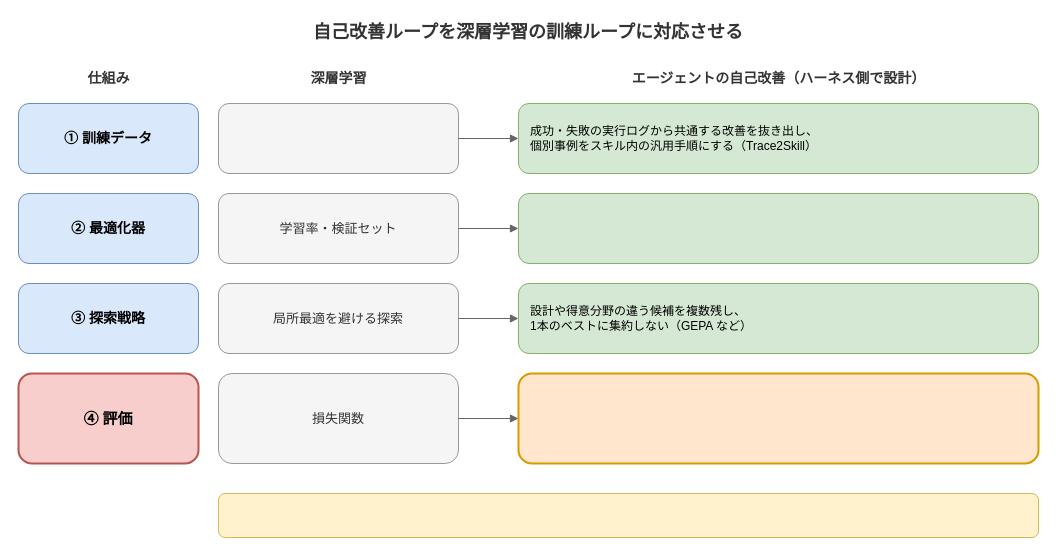
Some shapes in this 1056 by 555 pixel diagram are drawn without their labels. The box of each missing label's shape, as (x1, y1, x2, y2) in pixels:
1回の編集量を制限し、検証用タスクで改善を 確かめてから採用する（SkillOpt）: (518, 192, 1038, 264)
学習データセット: (218, 102, 458, 174)
改善の向きを決める。評価が不正確だと反復するほど性能が落ちる。 「良い出力」の基準（正確性・網羅性・妥当性）は人間が定義する: (517, 372, 1039, 464)
更新されるのはモデルの重みではなく、スキル（SKILL.md）やワークフローのコード: (218, 492, 1038, 538)
